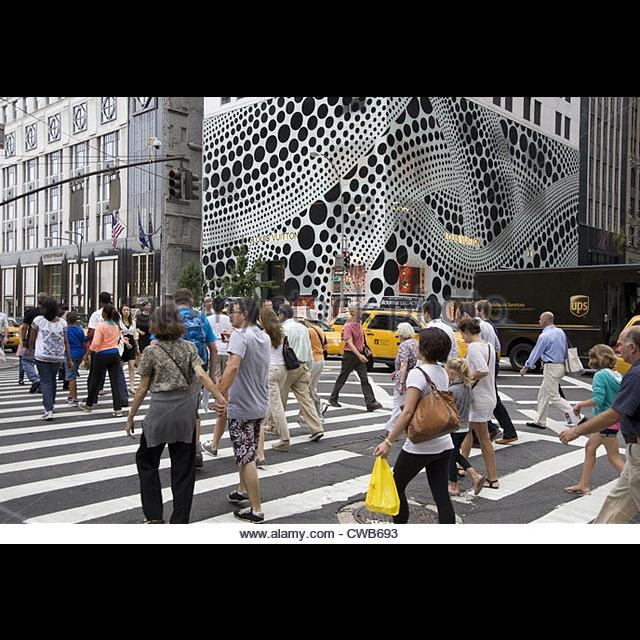head: (415, 326, 449, 364), (230, 297, 262, 329), (154, 304, 182, 340), (589, 342, 617, 370), (228, 300, 252, 328), (459, 316, 481, 344), (445, 358, 465, 382), (424, 300, 444, 324), (458, 302, 478, 322), (276, 304, 296, 324), (176, 288, 196, 308), (259, 309, 277, 329), (398, 322, 414, 342), (43, 297, 59, 315), (540, 311, 556, 327), (476, 300, 492, 316), (349, 302, 363, 318), (212, 297, 226, 313), (102, 304, 116, 320), (25, 310, 39, 326), (305, 312, 319, 326), (100, 292, 112, 308), (120, 305, 132, 319), (66, 311, 78, 325), (38, 294, 50, 306), (204, 296, 214, 308), (142, 301, 154, 311), (0, 306, 4, 314)
person: (144, 283, 220, 473), (213, 295, 274, 525), (200, 298, 272, 470), (446, 314, 502, 491), (457, 298, 521, 446), (263, 302, 327, 448), (516, 310, 590, 432), (447, 300, 505, 448), (253, 306, 303, 454), (435, 356, 487, 498), (410, 297, 460, 438), (325, 300, 383, 412), (82, 290, 134, 412), (28, 294, 76, 422), (77, 302, 127, 418), (376, 318, 420, 446), (198, 295, 238, 413), (294, 306, 332, 422), (18, 291, 58, 395), (60, 309, 96, 406), (112, 302, 144, 396), (16, 304, 44, 388), (130, 298, 158, 374), (196, 295, 220, 379), (0, 304, 12, 372)
